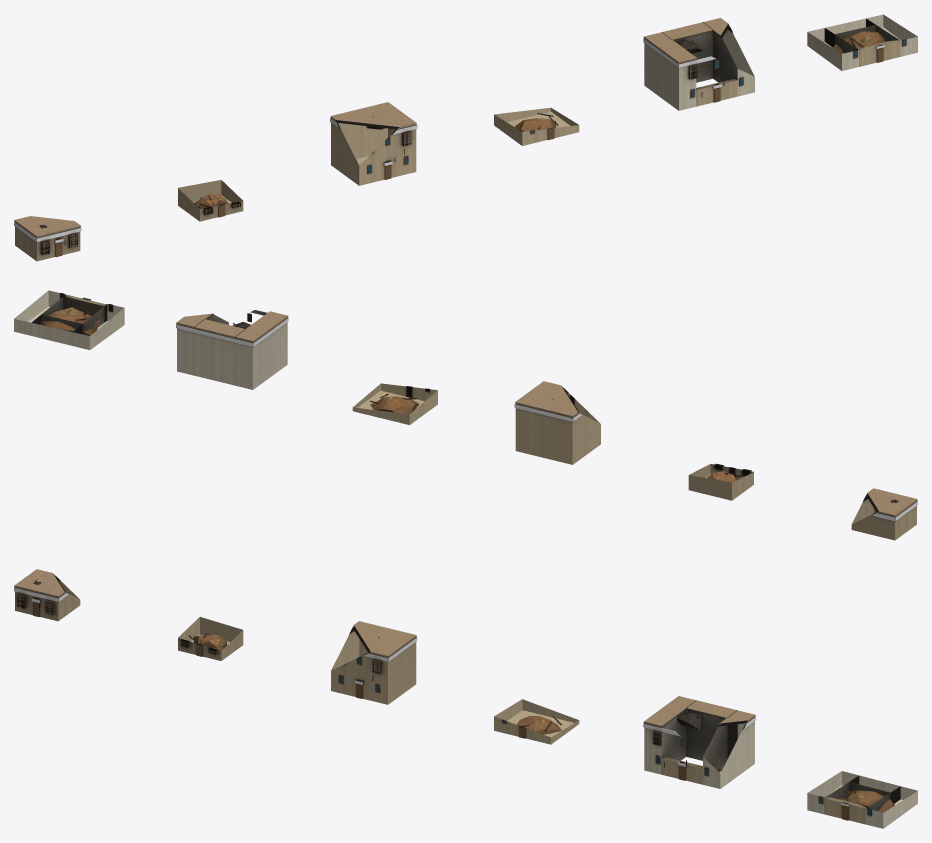
Rendered from gunpowder-nile-houses-damage.glb.
The picture shows the model from 3 angles, top to bottom: view 1: azimuth 30°, elevation 25°; view 2: azimuth 150°, elevation 25°; view 3: azimuth 330°, elevation 25°; orthographic projection.
Parts seen in each view (by area): view 1: LOD0.004, LOD0.002, LOD0.005, LOD0, LOD0.003, LOD0.001; view 2: LOD0.004, LOD0.002, LOD0.005, LOD0, LOD0.003, LOD0.001; view 3: LOD0.004, LOD0.002, LOD0.005, LOD0.003, LOD0, LOD0.001.
Part boxes in pixels (x1,y1,x2,y2): LOD0.004: (643, 18, 754, 110); LOD0.002: (330, 102, 417, 185); LOD0.005: (807, 14, 917, 70); LOD0: (14, 216, 81, 261); LOD0.003: (494, 107, 579, 145); LOD0.001: (178, 180, 243, 221); LOD0.004: (176, 310, 288, 389); LOD0.002: (514, 381, 600, 464); LOD0.005: (14, 290, 124, 349); LOD0: (851, 488, 917, 540); LOD0.003: (352, 383, 437, 424); LOD0.001: (688, 463, 753, 500); LOD0.004: (643, 696, 755, 788); LOD0.002: (331, 621, 417, 704); LOD0.005: (807, 771, 917, 828); LOD0.003: (494, 699, 579, 744); LOD0: (14, 569, 80, 621); LOD0.001: (178, 617, 243, 660).
Size of what is drawn, in the model's own units: 16.11 by 0.8788 by 1.17.
2 materials, 2 textured.
